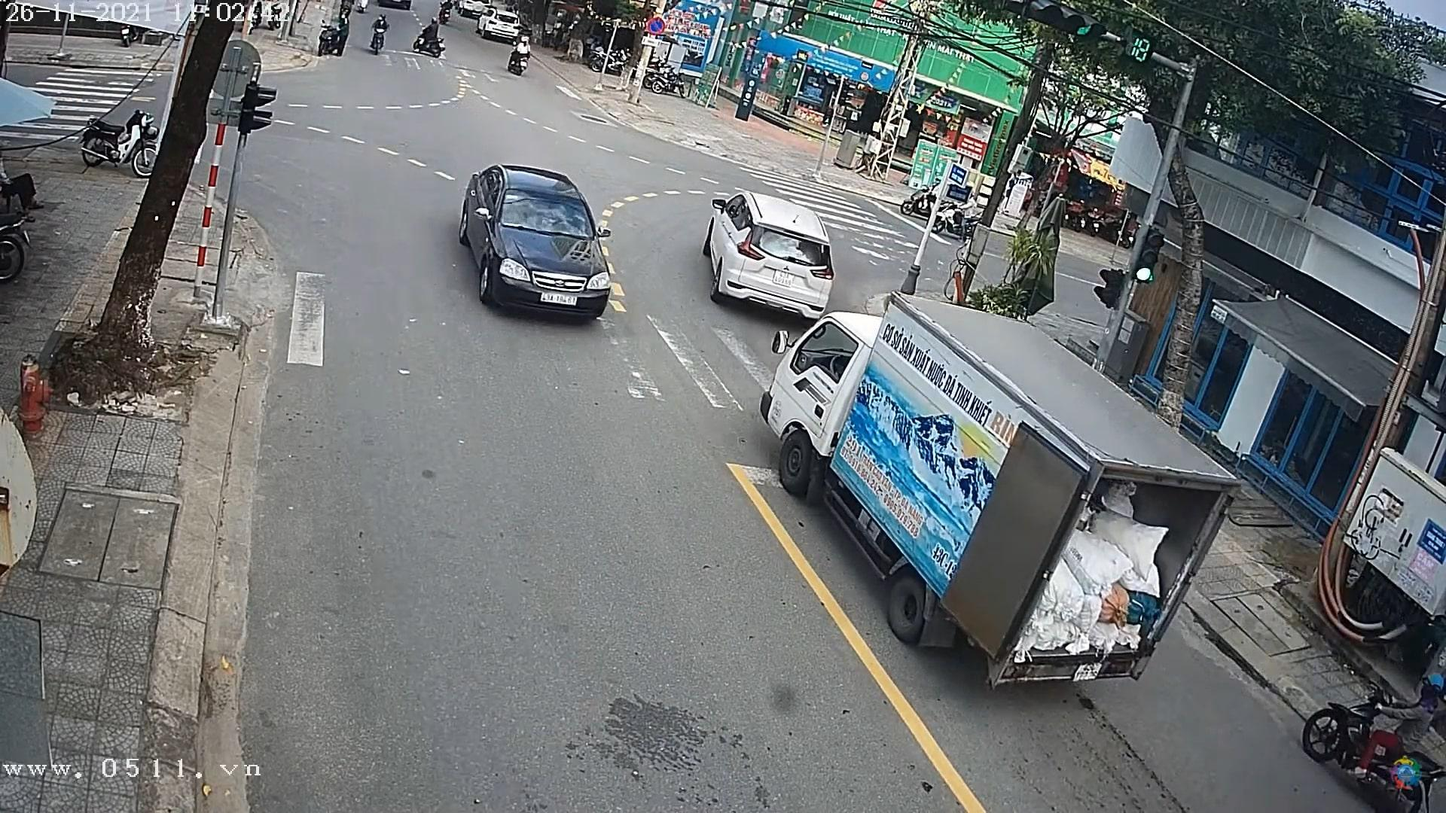car: (462, 168, 612, 321), (702, 190, 847, 321)
motorbike: (1299, 680, 1445, 812)
truck: (758, 292, 1241, 701)
